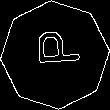P_W: (29, 35, 81, 75)
